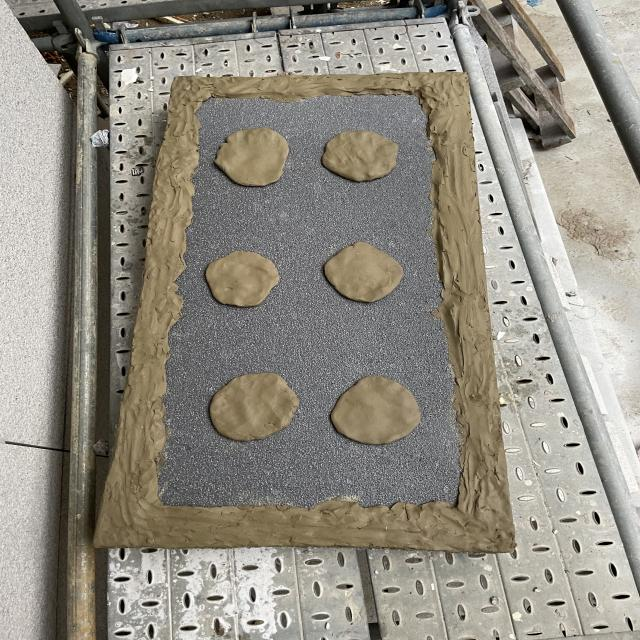dab: (209, 373, 299, 441), (331, 376, 421, 444), (324, 242, 403, 302), (214, 128, 289, 186), (206, 251, 280, 307), (322, 131, 398, 182)
insulation: (93, 72, 517, 552)
